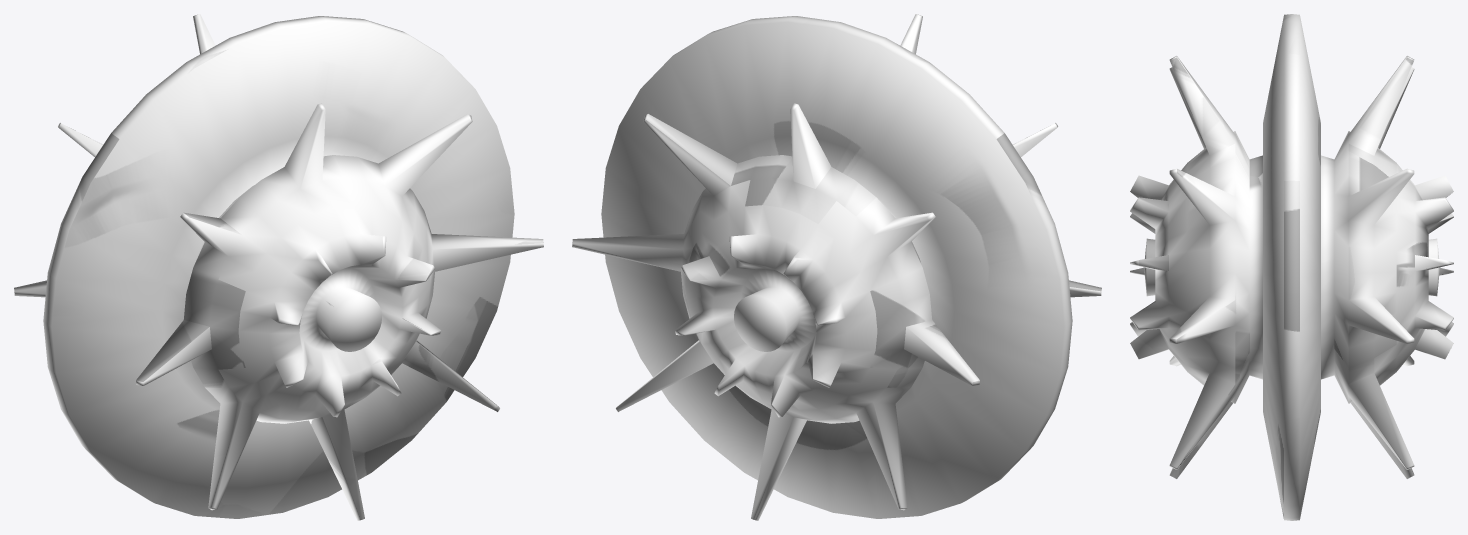
File: Sun.obj
3 renders of one model, left to right at view 1: azimuth 30°, elevation 25°; view 2: azimuth 150°, elevation 25°; view 3: azimuth 270°, elevation 25°, orthographic. The views are drawn at different scales.
Visible parts, largest first — view 1: Sphere001; view 2: Sphere001; view 3: Sphere001.
Boxes of the visible parts, x1,y1,x2,y2 form: Sphere001: [14, 14, 543, 520]; Sphere001: [572, 14, 1101, 520]; Sphere001: [1130, 14, 1453, 520].
Size of the model in its own units: 48.48 by 48.48 by 30.94.
